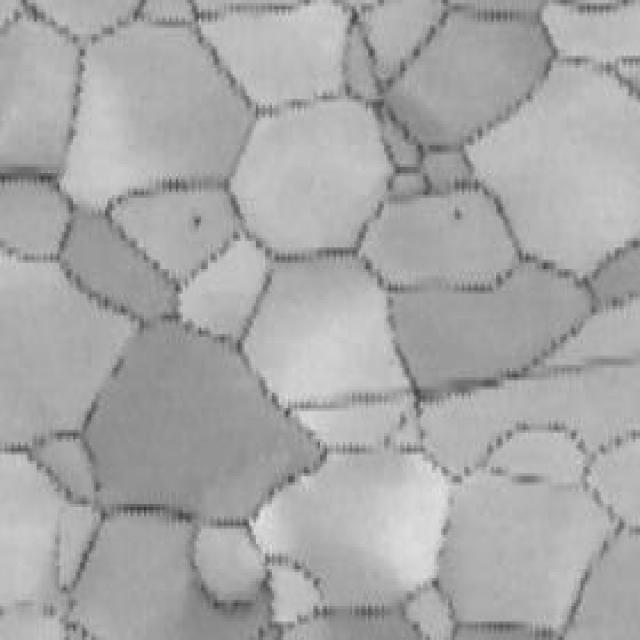good_void: (449, 203, 464, 226), (190, 212, 203, 237), (397, 411, 413, 429)
